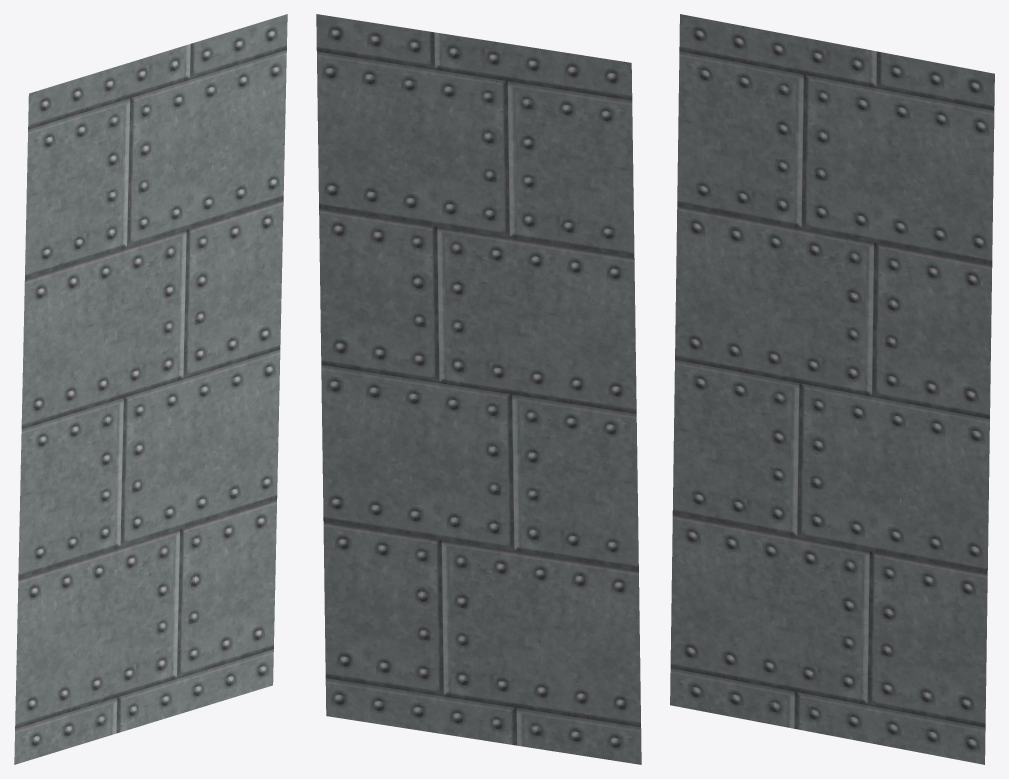
The model's file is WallBlock5.glb.
3 renders of one model, left to right at view 1: azimuth 30°, elevation 25°; view 2: azimuth 150°, elevation 25°; view 3: azimuth 330°, elevation 25°, orthographic. The views are drawn at different scales.
Parts seen in each view (by area): view 1: BattleShipKillerBossRoom.001; view 2: BattleShipKillerBossRoom.001; view 3: BattleShipKillerBossRoom.001.
Boxes of the visible parts, x1,y1,x2,y2 form: BattleShipKillerBossRoom.001: [14, 14, 287, 764]; BattleShipKillerBossRoom.001: [316, 14, 641, 764]; BattleShipKillerBossRoom.001: [670, 14, 994, 764].
Size of the model in its own units: 2.33 by 5.13 by 0.3407.
Materials: 1 (1 with a texture image).
